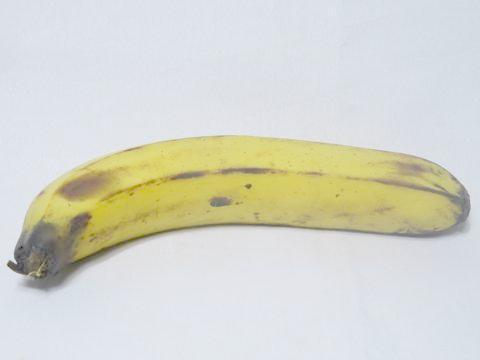ripe: (3, 115, 479, 291)
